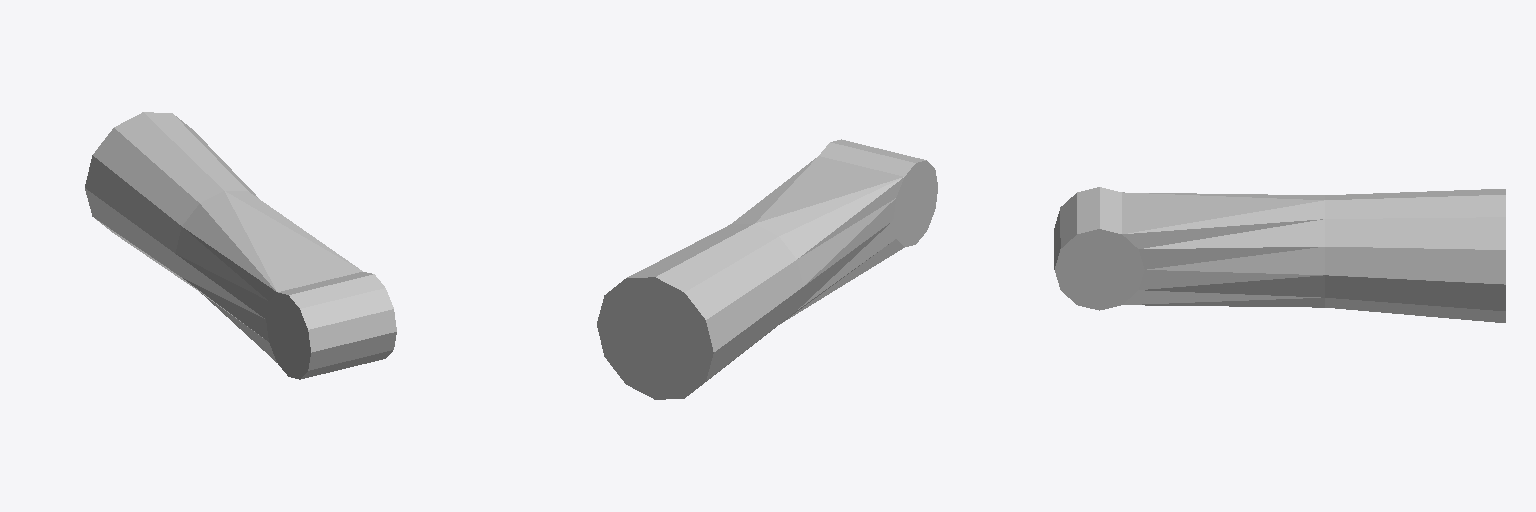
File: arm_link5.obj
3 renders of one model, left to right at view 1: azimuth 30°, elevation 25°; view 2: azimuth 150°, elevation 25°; view 3: azimuth 270°, elevation 25°, orthographic.
Visible parts, largest first — view 1: arm_link5_Cylinder.079; view 2: arm_link5_Cylinder.079; view 3: arm_link5_Cylinder.079.
Boxes of the visible parts, <box> form: arm_link5_Cylinder.079: <box>85,112,396,379</box>; arm_link5_Cylinder.079: <box>597,139,937,399</box>; arm_link5_Cylinder.079: <box>1054,187,1505,322</box>.
Size of the model in its own units: 0.06 by 0.06 by 0.2.